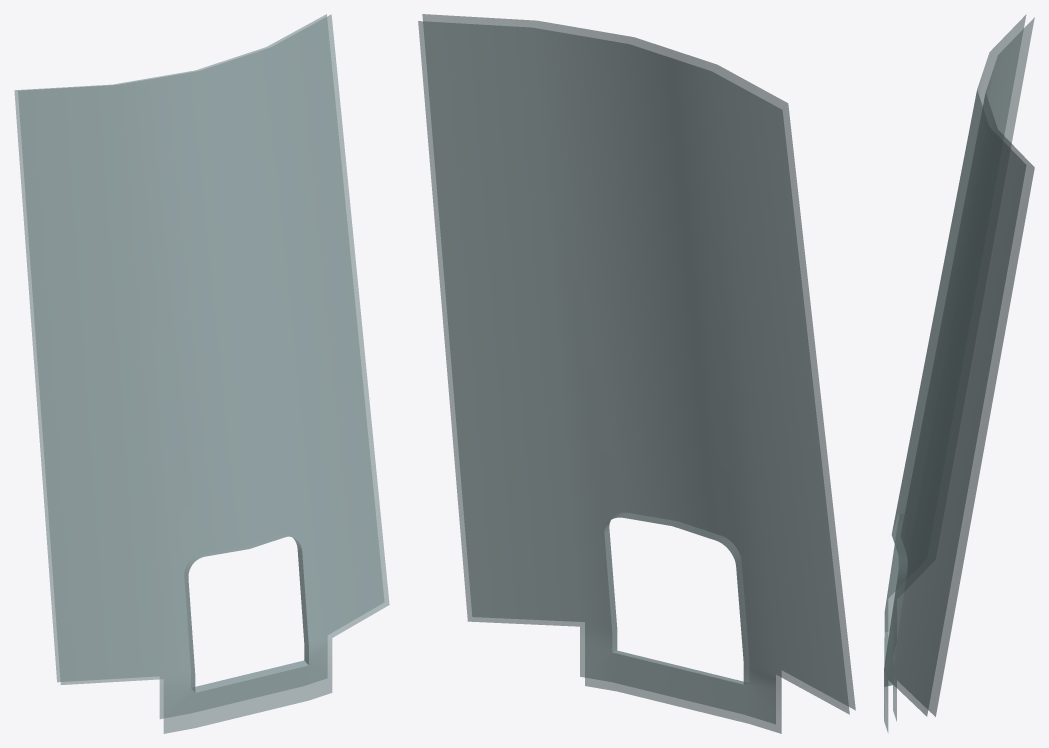
Rendered from MDL_Gate.fbx.
3 renders of one model, left to right at view 1: azimuth 30°, elevation 25°; view 2: azimuth 150°, elevation 25°; view 3: azimuth 270°, elevation 25°, orthographic. The views are drawn at different scales.
Parts seen in each view (by area): view 1: Gate; view 2: Gate; view 3: Gate.
Boxes of the visible parts, x1,y1,x2,y2 form: Gate: (14,14,389,733); Gate: (418,14,855,733); Gate: (884,14,1034,732).
Bounding box in the file's own units: 390 × 691 × 157.
